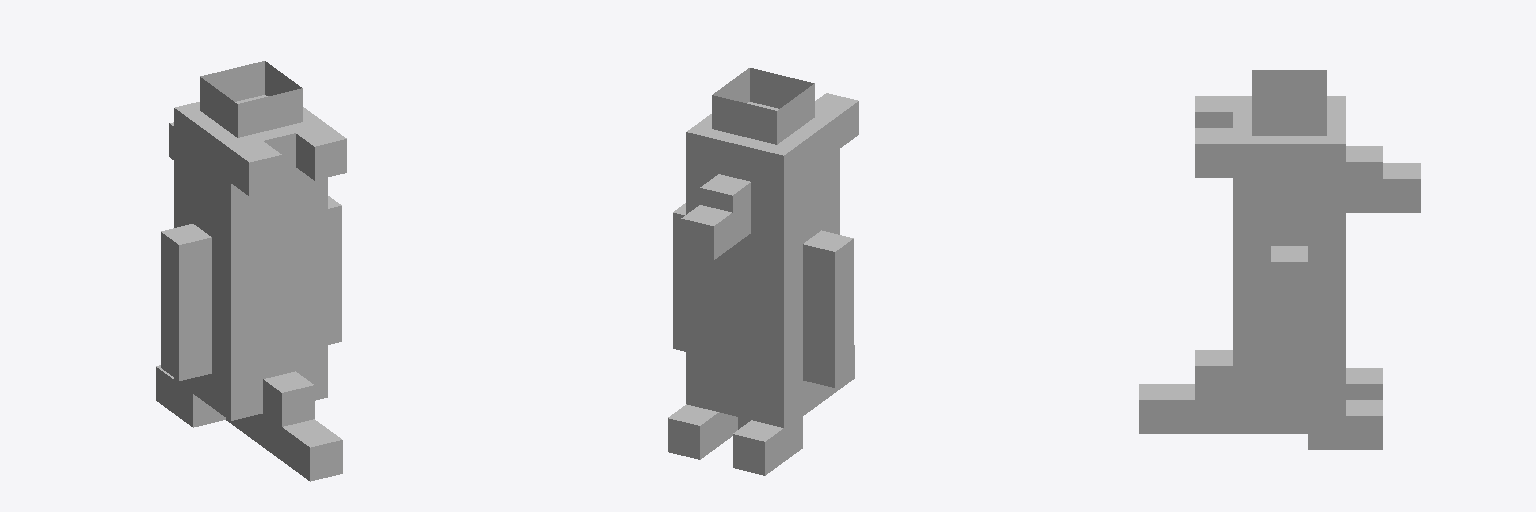
The model's file is crownpenguin.obj.
3 views of the same model, side by side, from view 1: azimuth 30°, elevation 25°; view 2: azimuth 150°, elevation 25°; view 3: azimuth 270°, elevation 25° (orthographic).
Parts seen in each view (by area): view 1: penguin, cube; view 2: penguin, cube; view 3: penguin, cube.
Part boxes in pixels (bbox=[...]): penguin: bbox=[156, 95, 346, 481]; cube: bbox=[200, 61, 302, 137]; penguin: bbox=[668, 93, 858, 475]; cube: bbox=[712, 68, 814, 144]; penguin: bbox=[1139, 96, 1420, 449]; cube: bbox=[1252, 70, 1326, 135].
Bounding box in the file's own units: 0.625 × 1.25 × 0.9375.